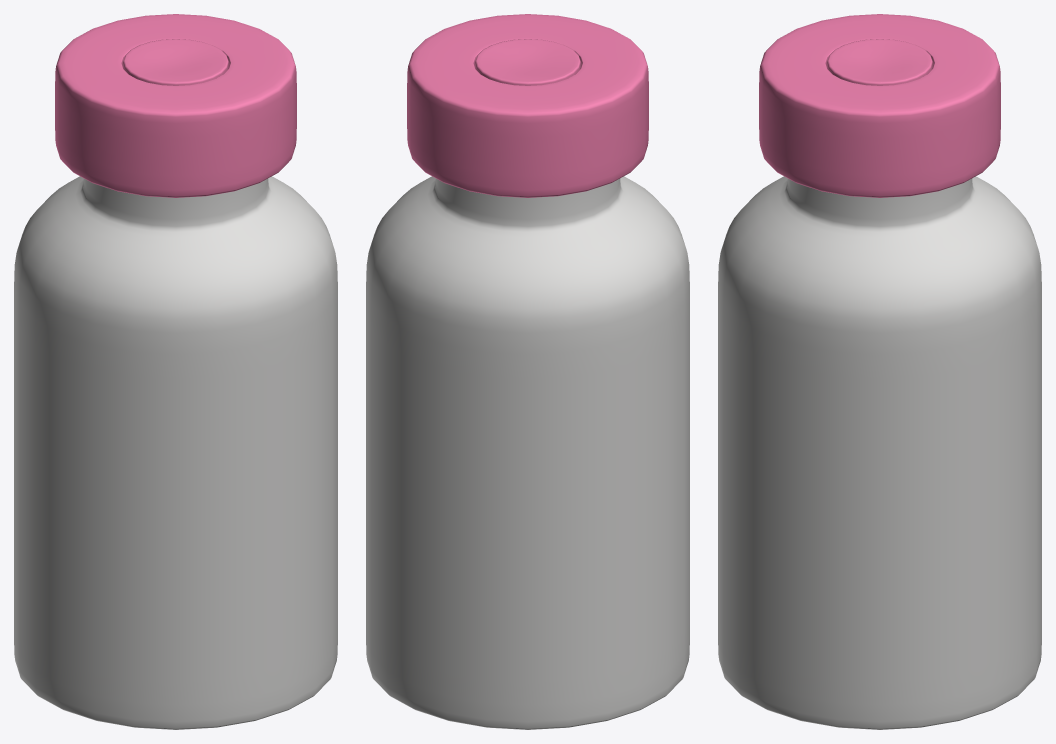
File: DIMORPHIUMACETATE.fbx
3 renders of one model, left to right at view 1: azimuth 30°, elevation 25°; view 2: azimuth 150°, elevation 25°; view 3: azimuth 270°, elevation 25°, orthographic.
Visible parts, largest first — view 1: vacineobj; view 2: vacineobj; view 3: vacineobj.
Part boxes in pixels (x1,y1,x2,y2): vacineobj: (14,14,337,729); vacineobj: (366,14,689,729); vacineobj: (718,14,1041,729).
Size of the model in its own units: 16.53 by 33.95 by 16.53.
